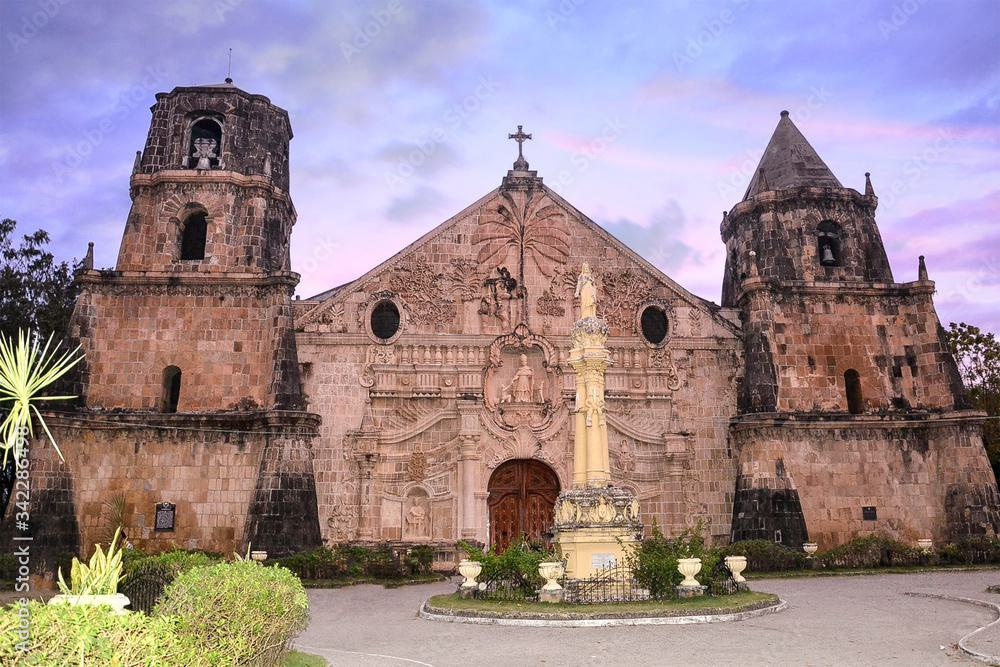miagao_church_miagao_iloilo: (18, 38, 1000, 567)
